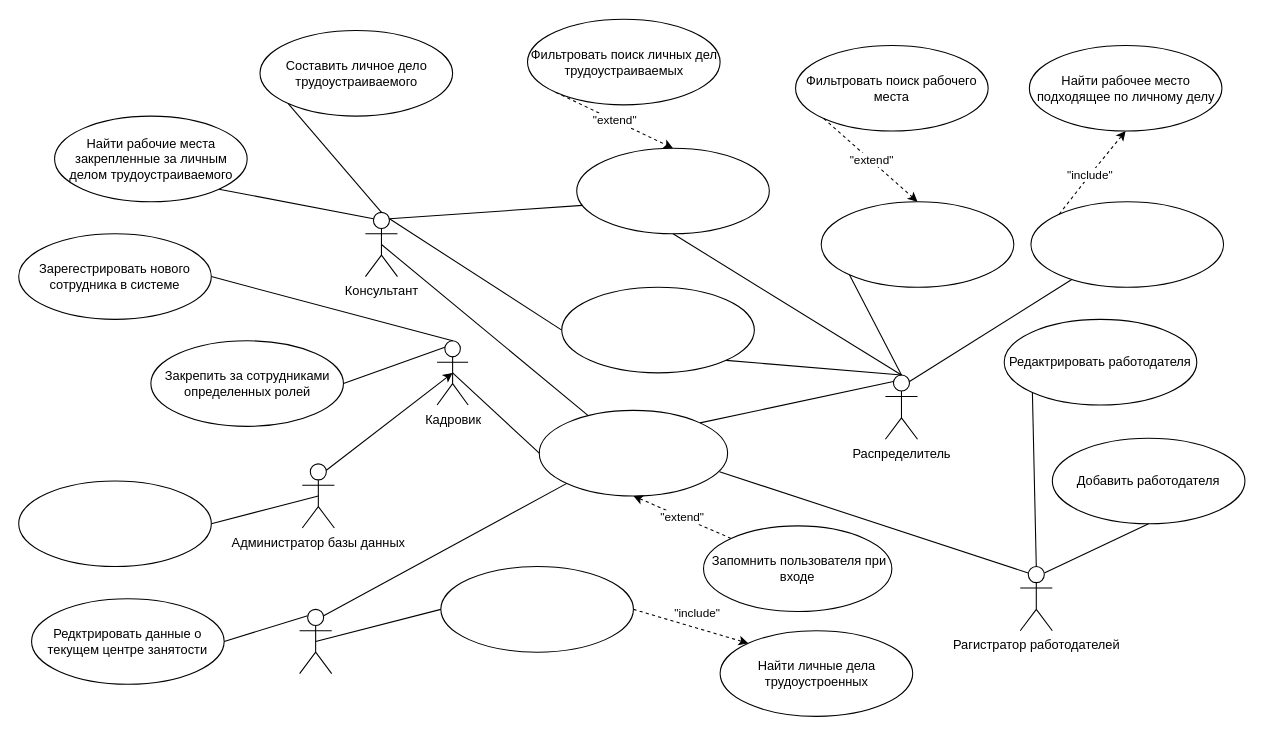
Image size: 1264x735. Some labels were removed from this diagram. The centre of each missing label's shape, as x and y in pixels:
Авторизоваться: the point at 633,452
Администратор центра: the point at 315,641
Добавить данные о центре трудоустройства: the point at 114,523
Закрепить личное дело за рабочим местом: the point at 1127,244
Найти личное дело трудоустраиаемого: the point at 672,190
Найти рабочие места: the point at 917,244
Открепить личное дело от рабочего места: the point at 657,329
Составить отчет по выполнению трудоустройства: the point at 536,608
